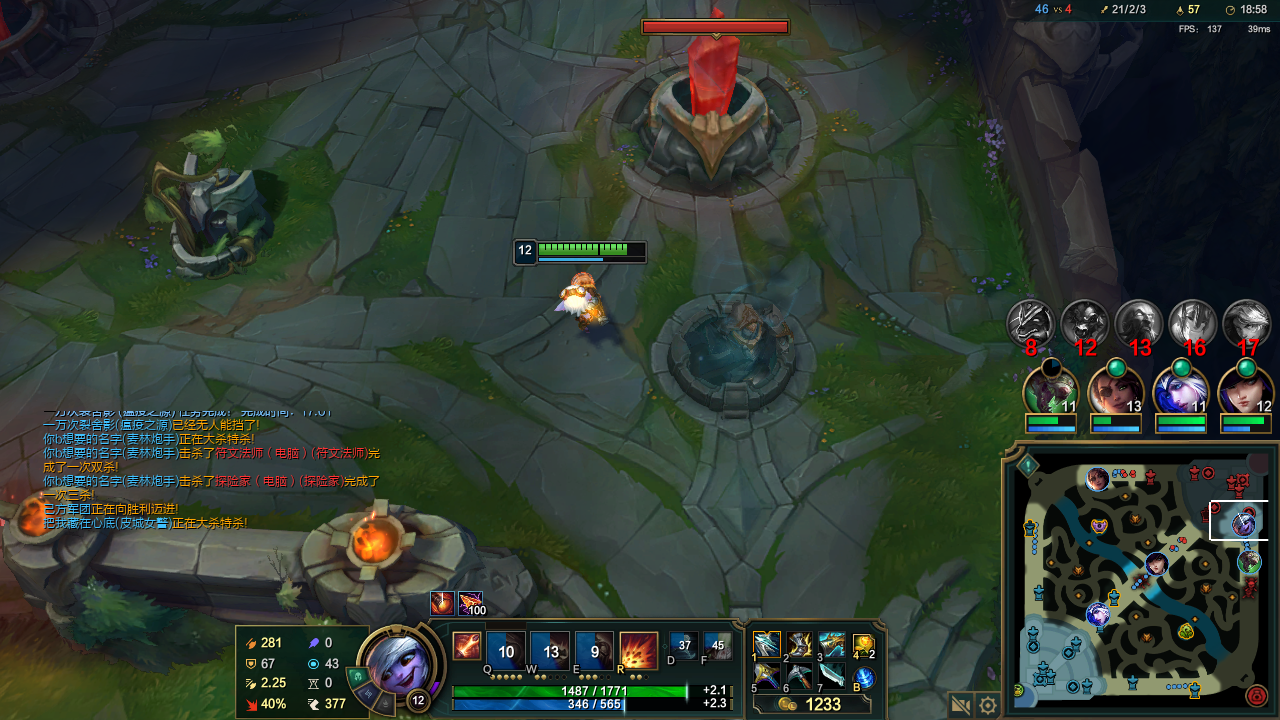DFSJ: (635, 37, 802, 184)
